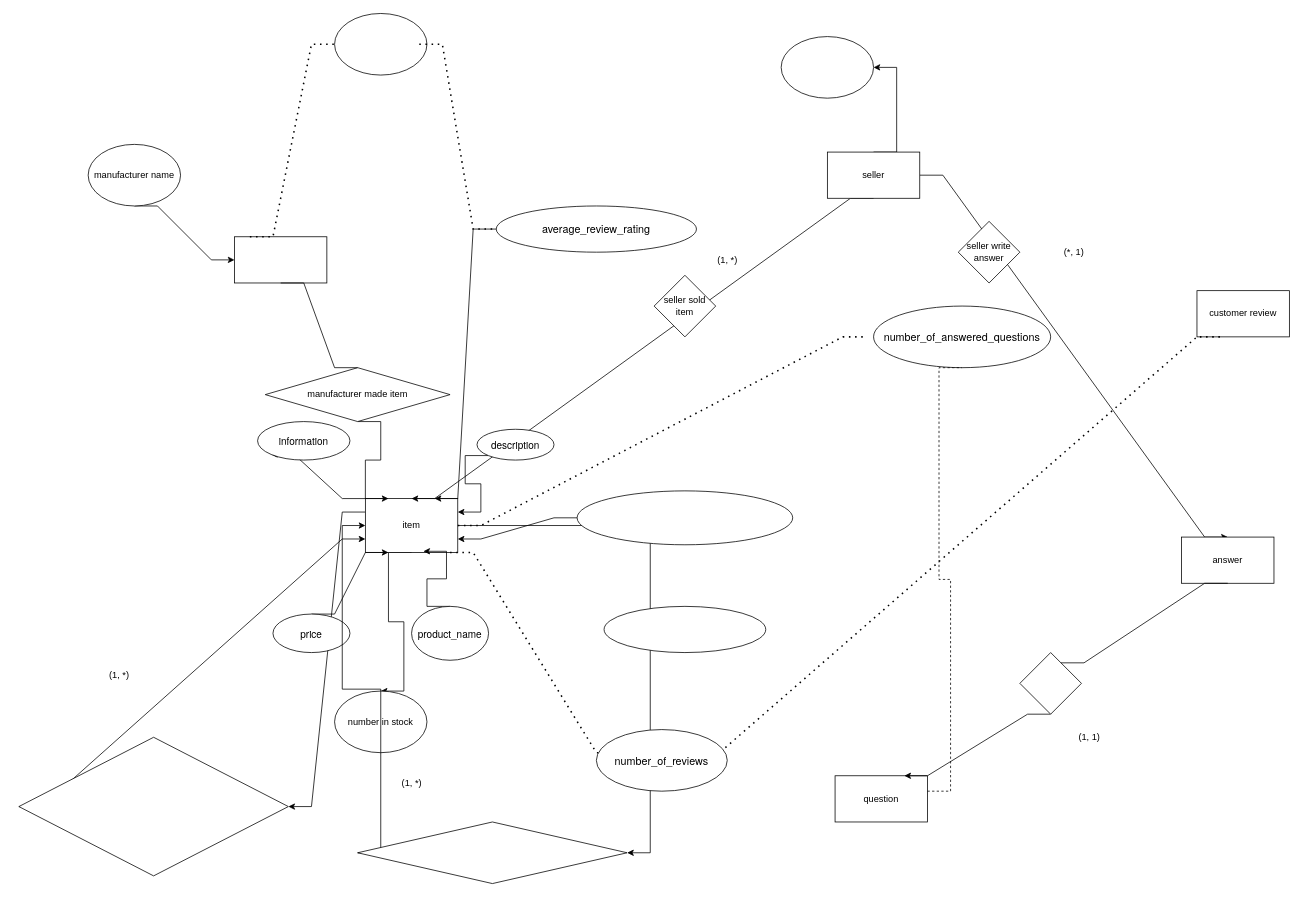
Some shapes in this 1303 by 897 pixel diagram are drawn without their labels. Each missing label, with the centre of its shape:
"amazon_category_and_sub_category" belongs at (x=684, y=517).
"customers_who_bought_this_item_also_bought" belongs at (x=492, y=852).
"items_customers_buy_after_viewing_this_item" belongs at (x=153, y=806).
"manufacturer" belongs at (x=280, y=259).
"metrics: how many items have a good quality" belongs at (x=380, y=44).
"number_available_in_stock" belongs at (x=684, y=629).
"question is answered" belongs at (x=1050, y=683).
"seller name" belongs at (x=827, y=67).
